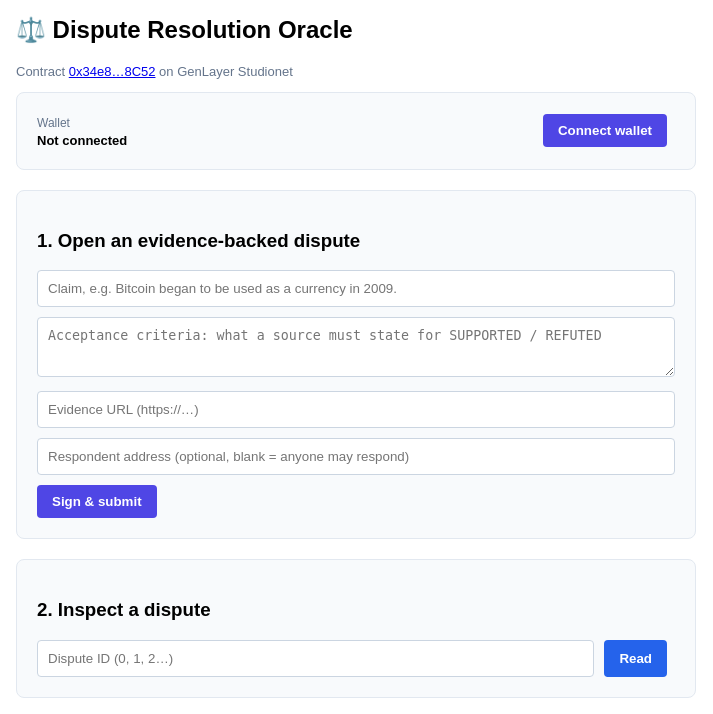
it: App › shows the wallet error if the user rejects the connection
Click the button "Connect wallet" at (605, 131), box [543,114,667,147]
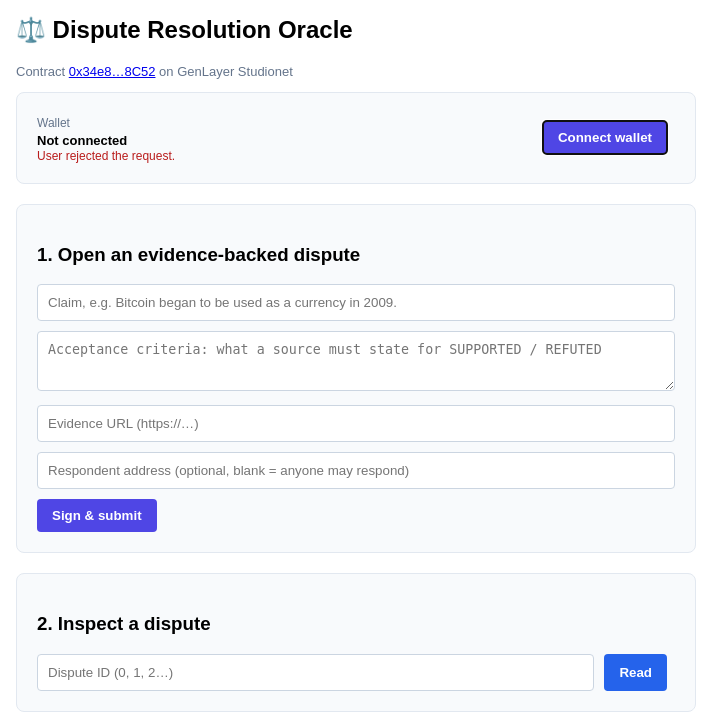
Now the message shows "User rejected", box [37,149,175,163]
